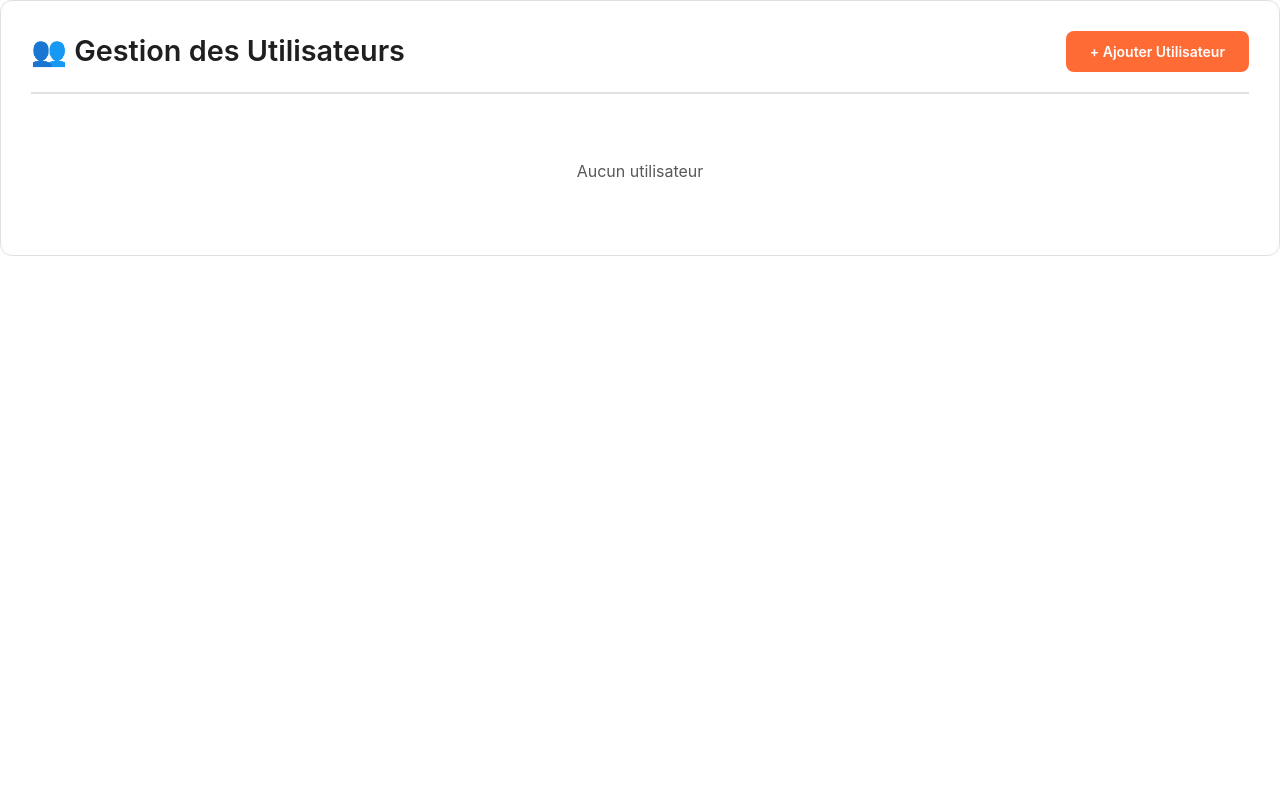
Fonctions et composants du frontend › UsersManagement valide un mot de passe trop court
Click the button "+ Ajouter Utilisateur": x=1157, y=52 [1066,31,1249,72]
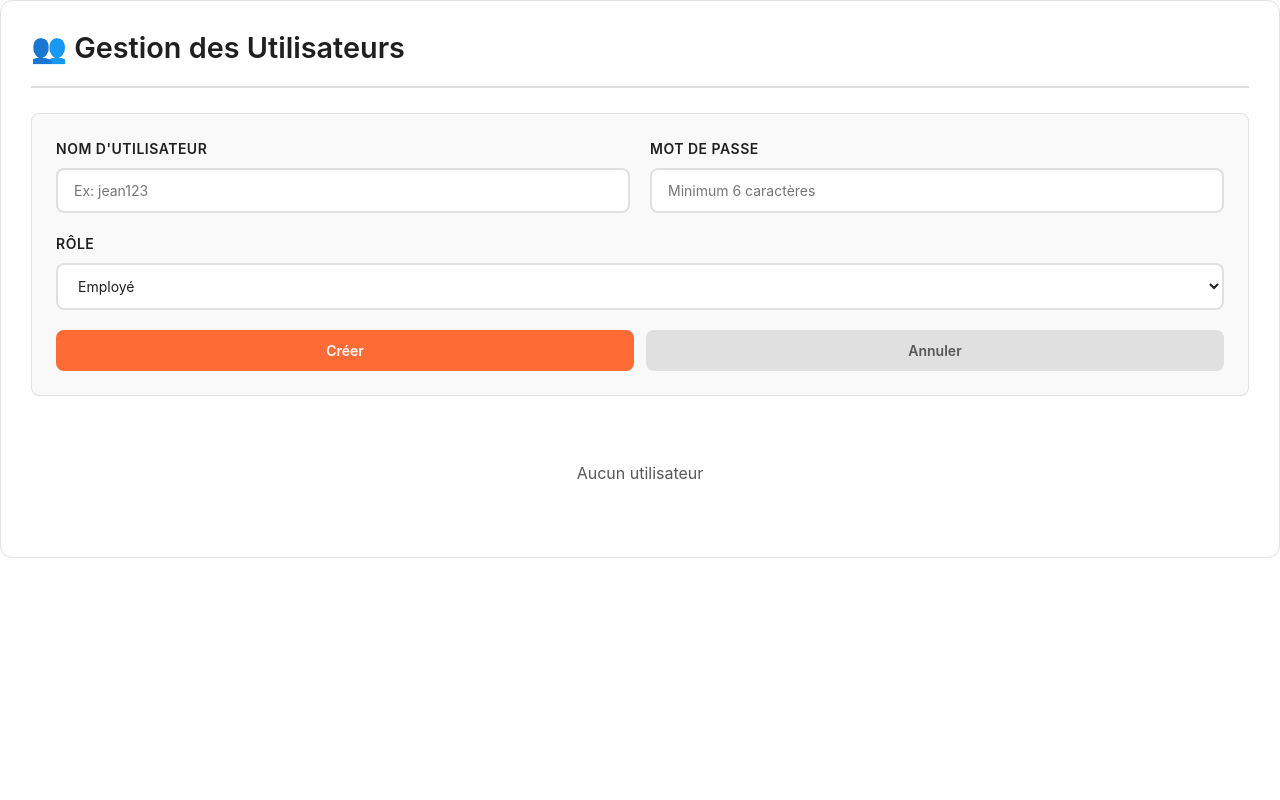
In the field with placeholder "Ex: jean123": x=343, y=190 [56,168,630,213], type "jean123"
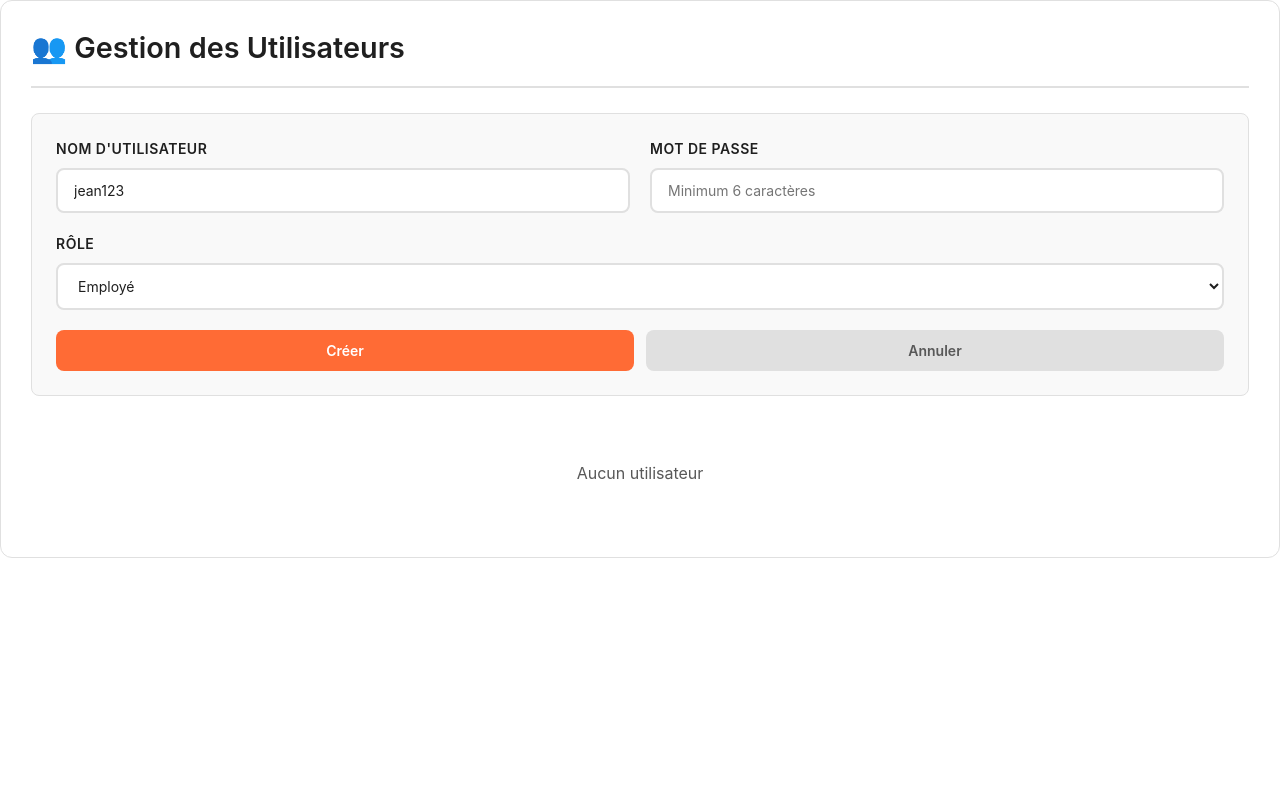
In the password field with placeholder "Minimum 6 caractères": x=937, y=190 [650,168,1224,213], type "123"
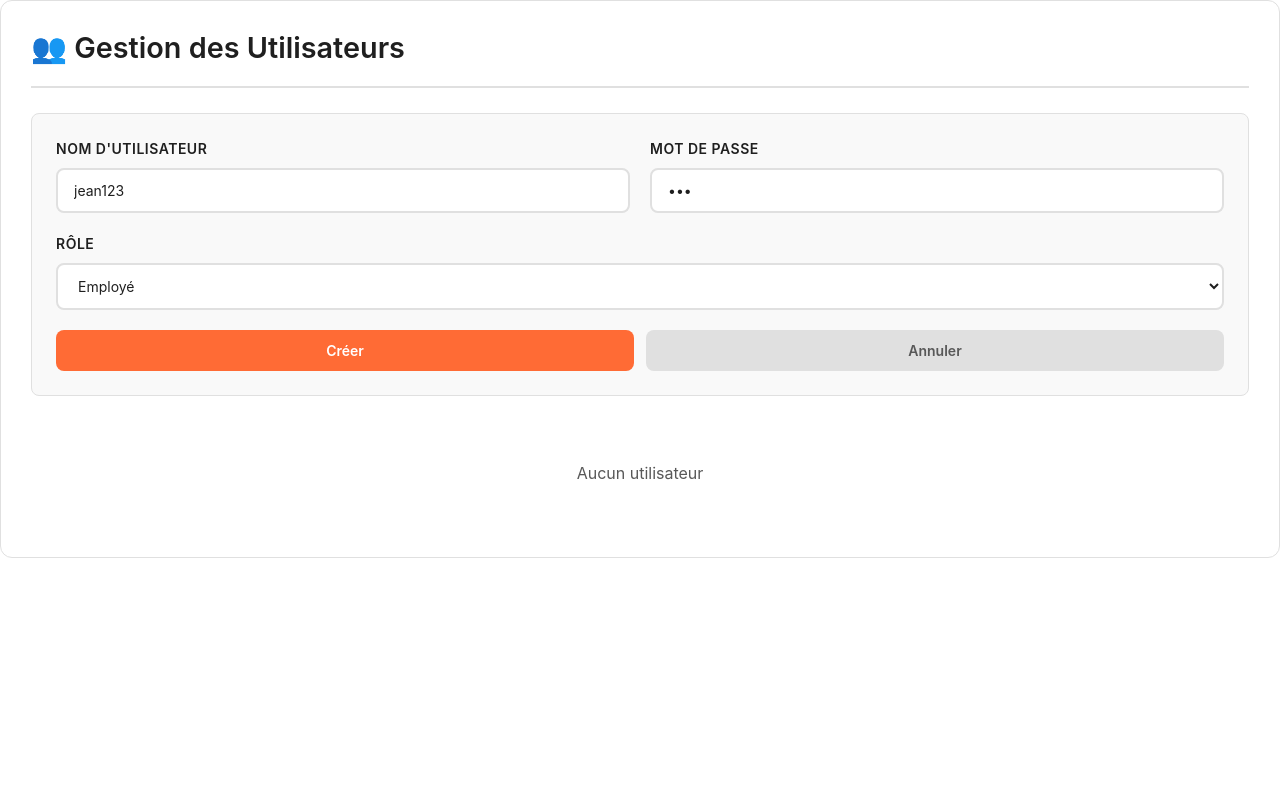
Click the button "Créer": x=345, y=351 [56,330,634,371]
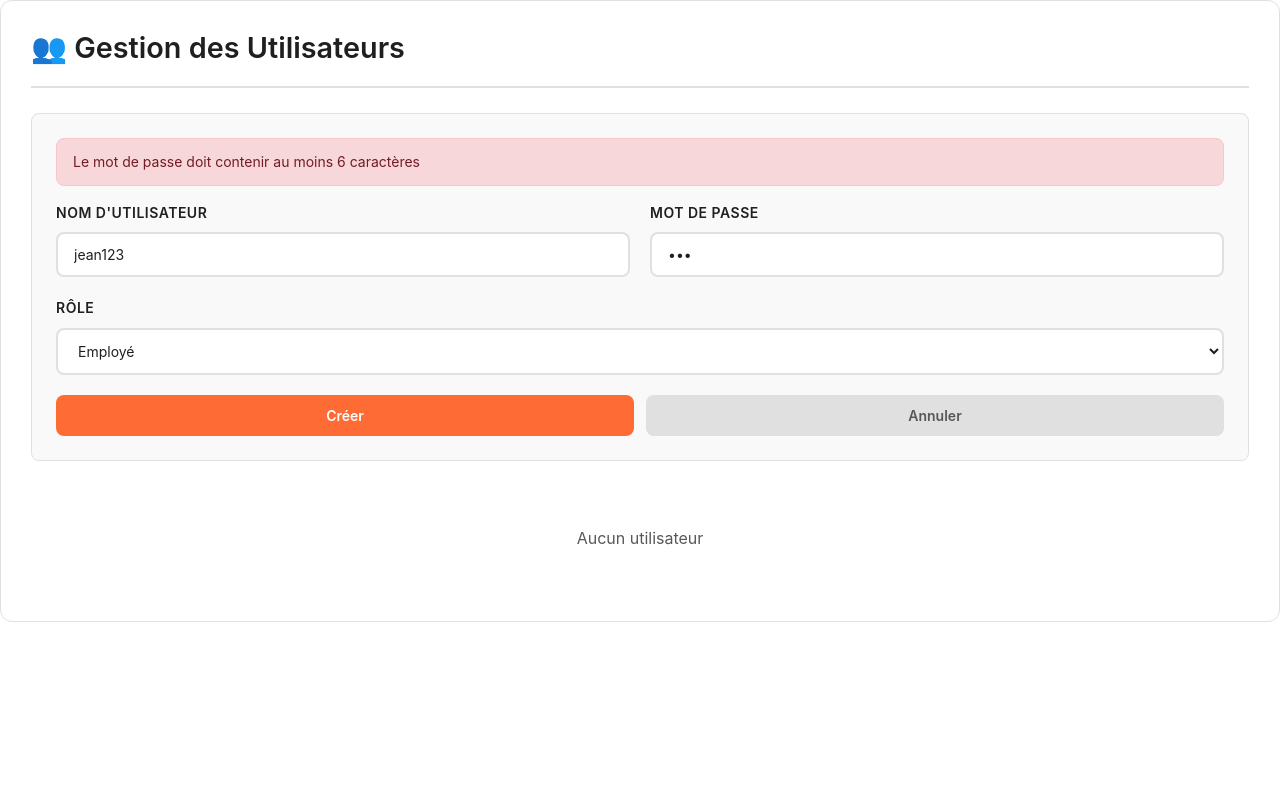
Now the text "Le mot de passe doit contenir au moins 6 caractères" is shown, box [56,138,1224,186]
